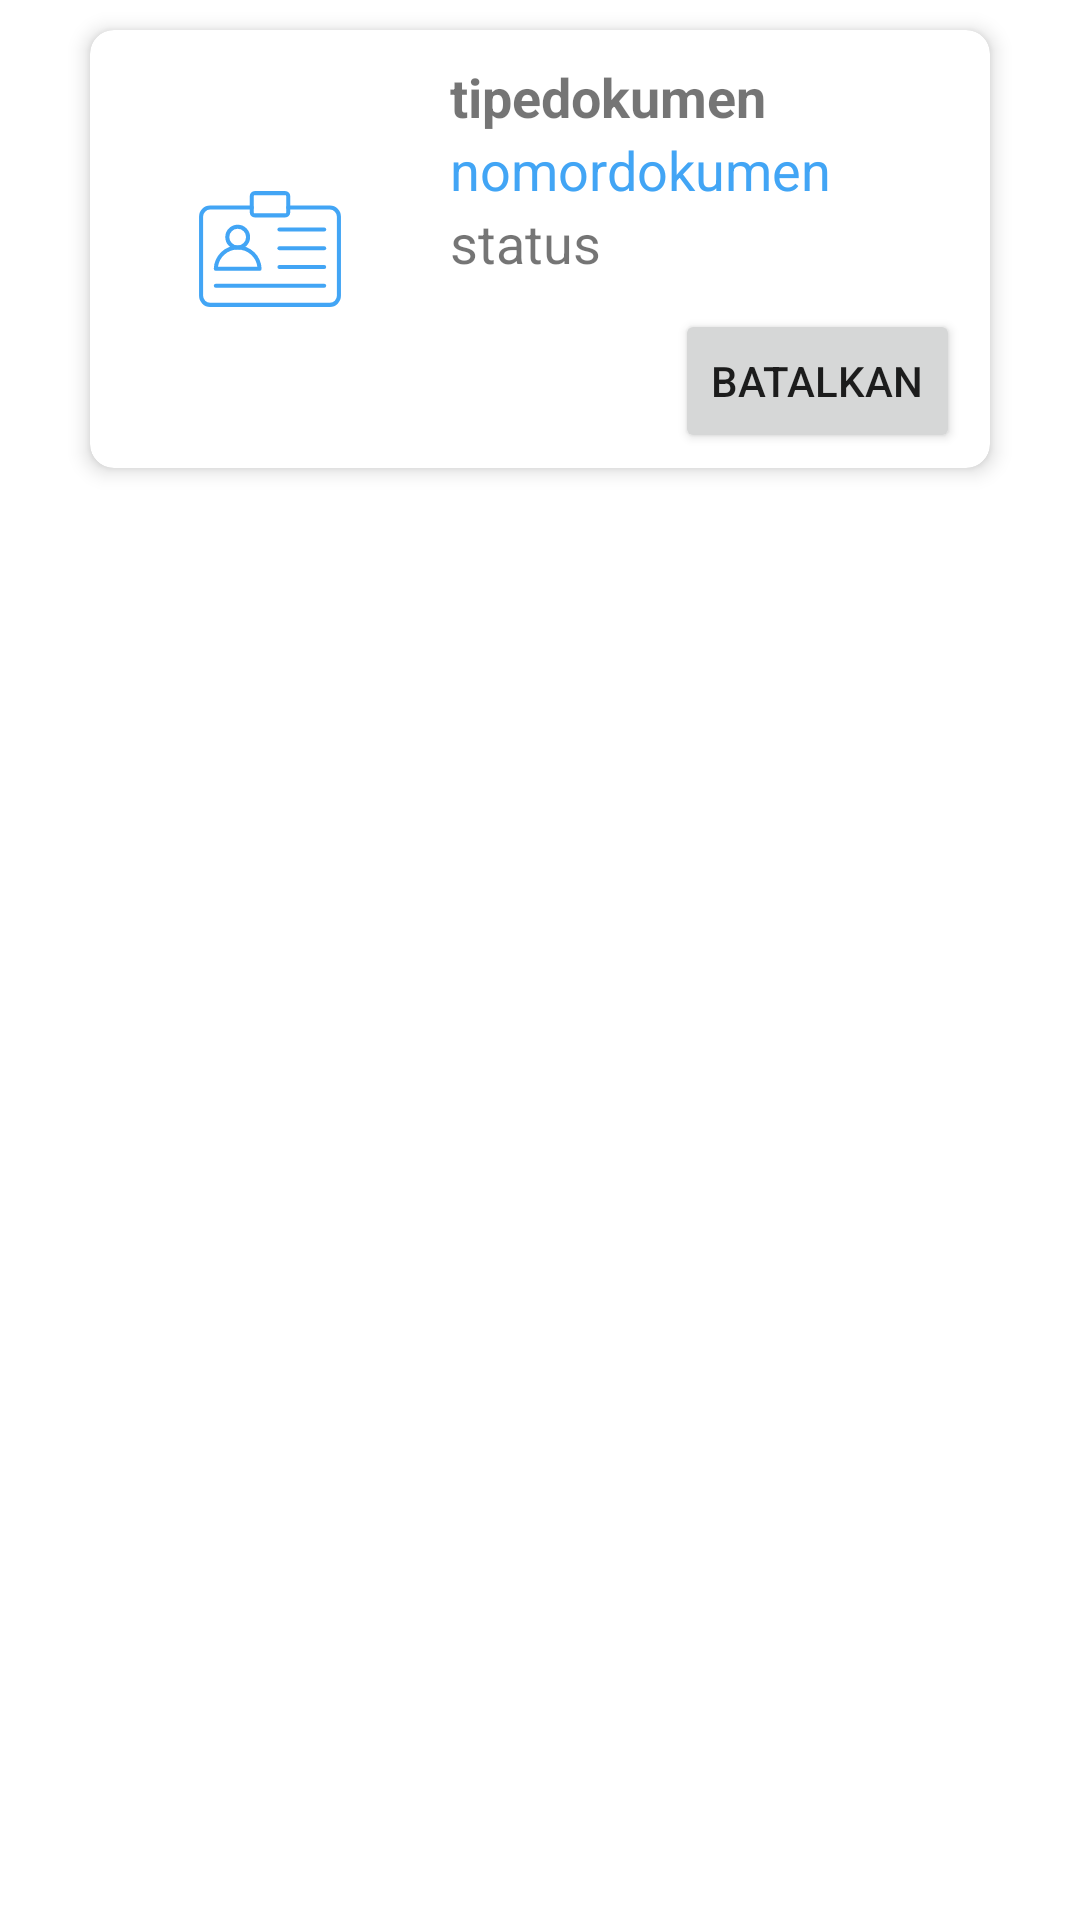

Icon click points for this 1080 × 1920 phone screenshot, format (x=x, y=y):
Buat KTP: (x=270, y=249)
